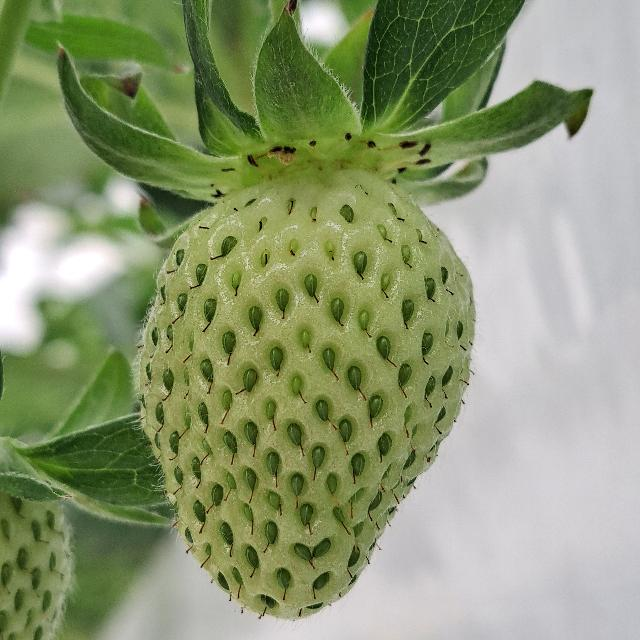Health_25: (139, 167, 475, 618)
